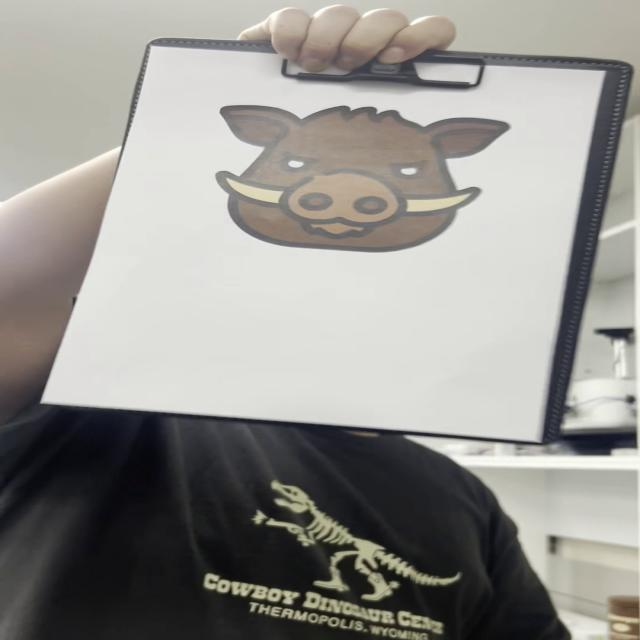animal: (213, 100, 509, 260)
